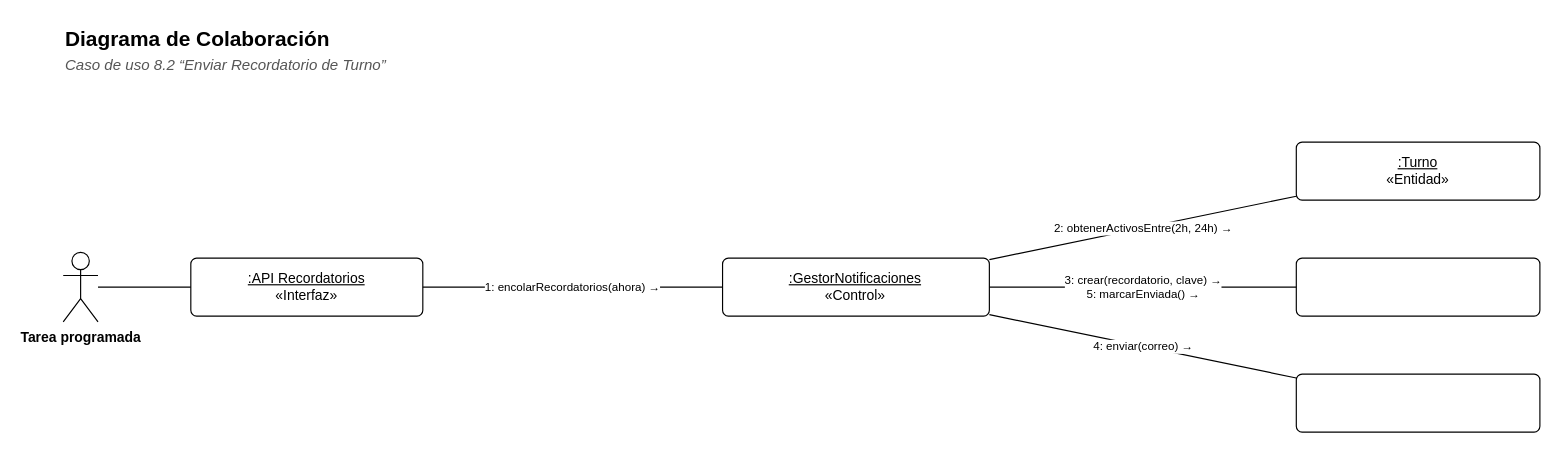
The diagram is 1560 pixels wide and 452 high, and some of its shapes have lost their labels. Here are the shapes that lost their labels. From the top down, the box of each, then its label:
(1295, 257, 1540, 316): :Notificacion «Entidad»
(1295, 373, 1540, 432): :ServicioDeCorreo «Sistema»
